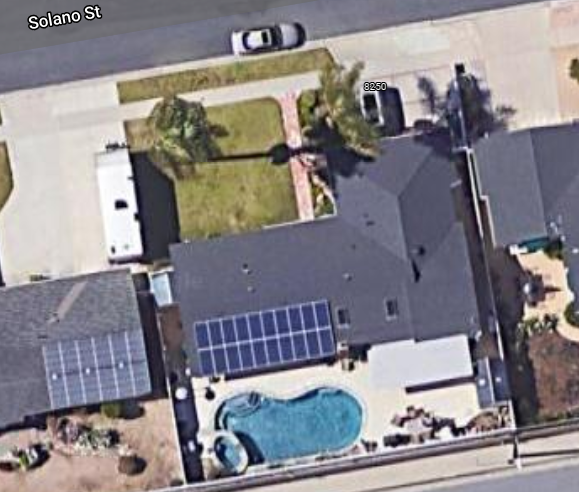poolww: (201, 382, 372, 479)
